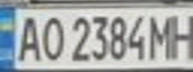2: (66, 11, 90, 63)
3: (87, 11, 112, 62)
4: (127, 11, 151, 61)
8: (109, 11, 130, 62)
A: (12, 11, 45, 63)
H: (169, 9, 193, 60)
M: (145, 10, 178, 61)
O: (36, 12, 66, 63)
